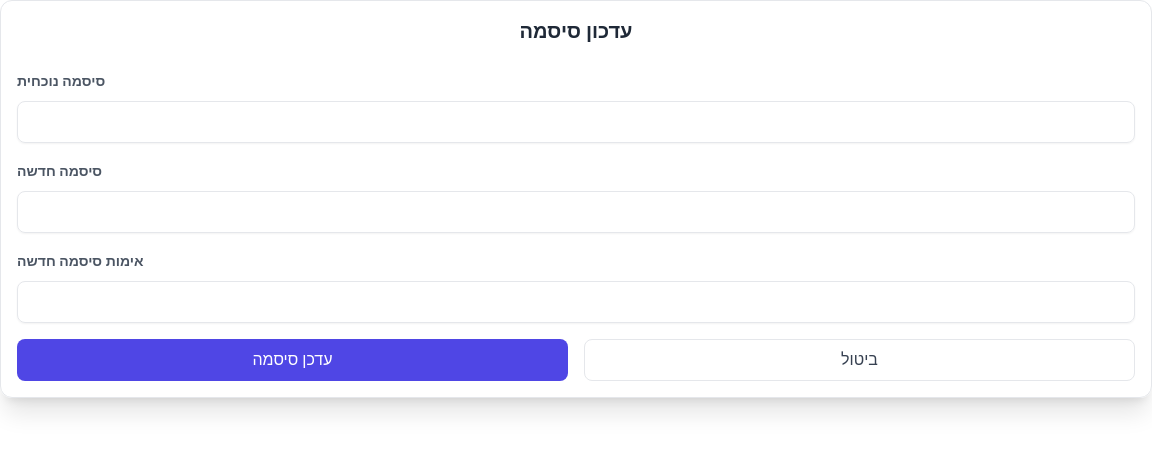
Scenario: UpdatePasswordForm › handles current password verification
The width and height of the screenshot is (1152, 456).
Type "WrongPass123" into the password field labelled "סיסמה נוכחית".
click(576, 122); type("WrongPass123")  # box [17,101,1135,143]
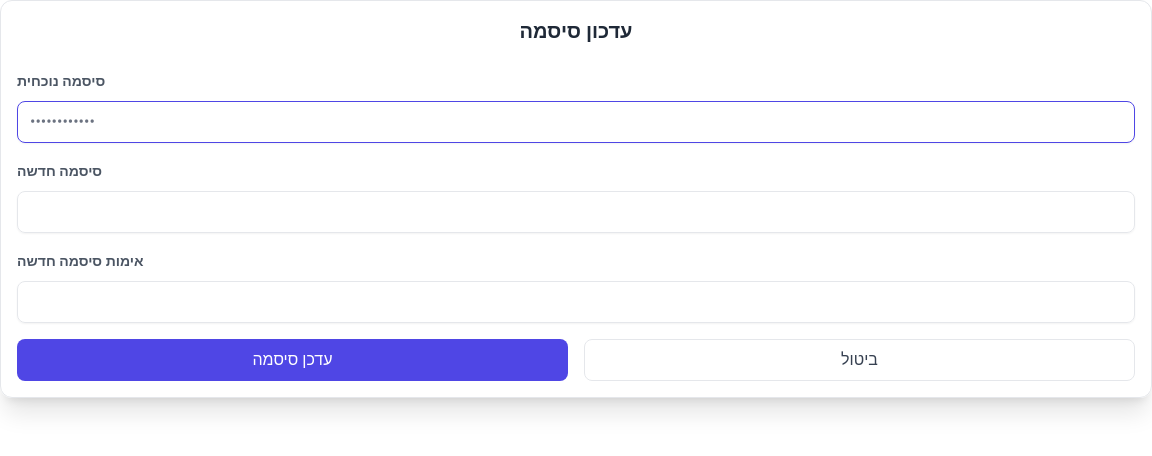
Type "NewPassword123" into the password field labelled "סיסמה חדשה".
click(576, 212); type("NewPassword123")  # box [17,191,1135,233]
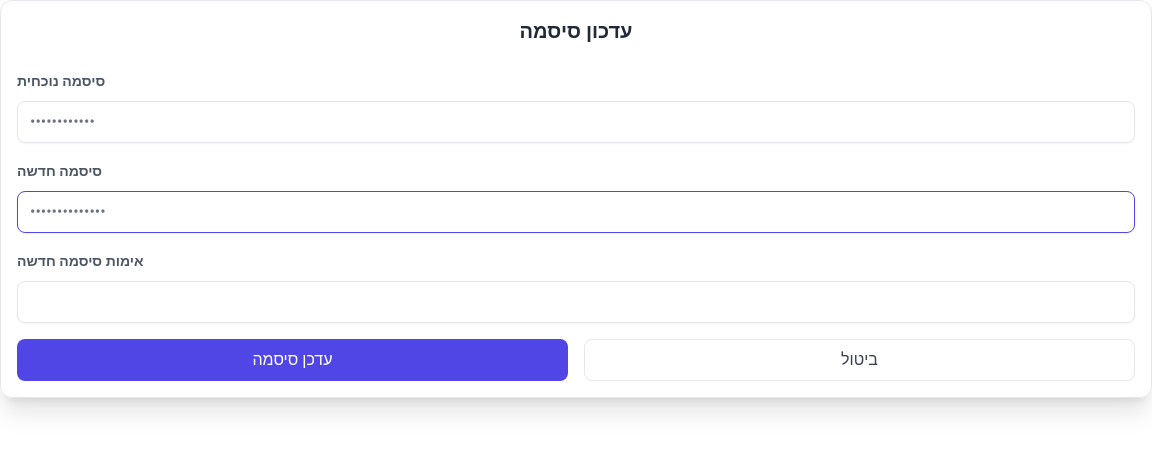
Type "NewPassword123" into the password field labelled "אימות סיסמה חדשה".
click(576, 302); type("NewPassword123")  # box [17,281,1135,323]
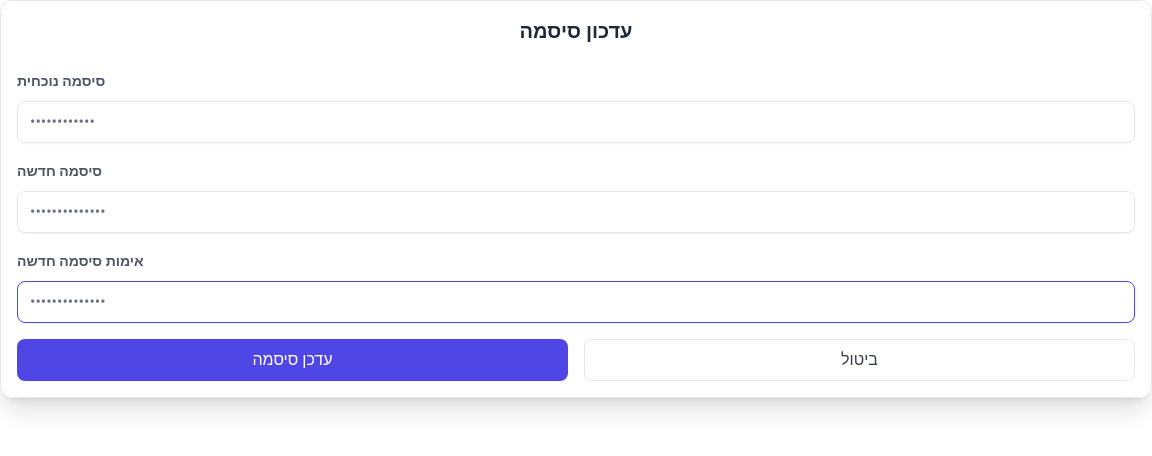
Click the button "עדכן סיסמה".
click(292, 360)  # box [17,339,568,381]
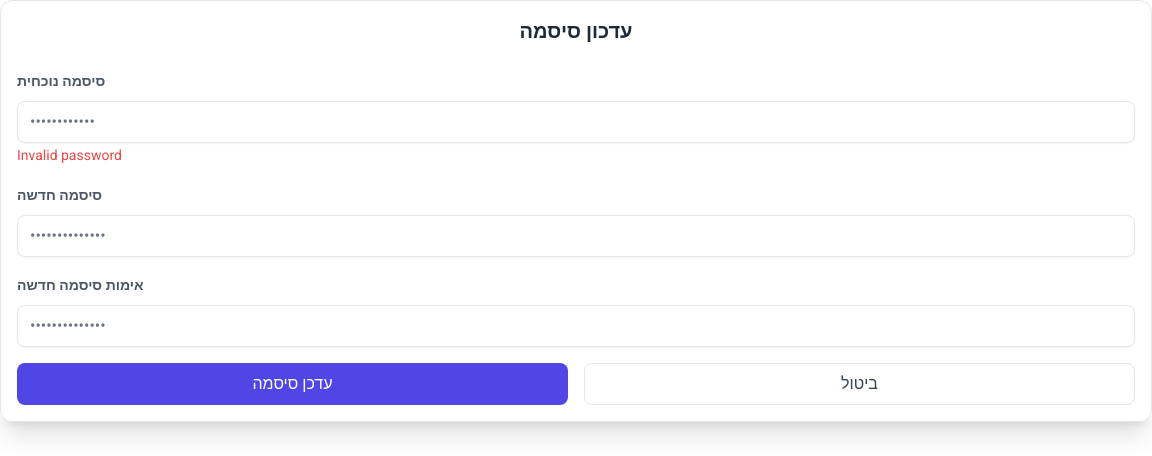
Check: the text "Invalid password" is shown, box [17,147,122,163]
